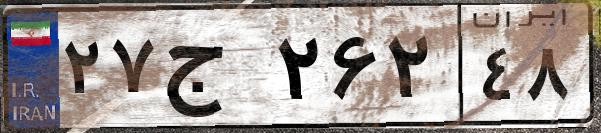2: (270, 28, 330, 110), (385, 28, 445, 110), (57, 26, 110, 100)
4: (475, 38, 525, 113)
6: (330, 28, 385, 110)
7: (110, 28, 158, 98)
8: (525, 38, 570, 115)
ج: (158, 20, 270, 120)
